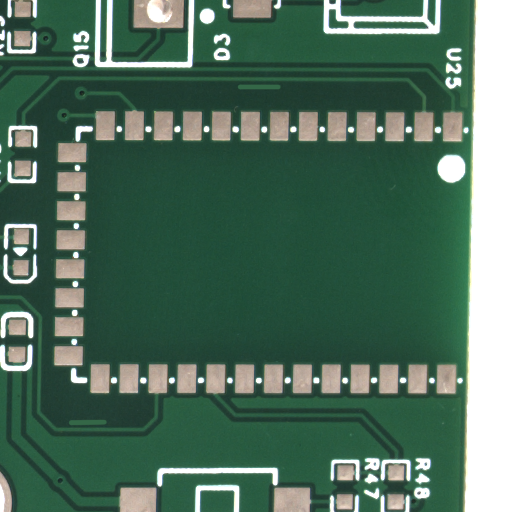Spurious_copper: (88, 421, 128, 430), (259, 87, 303, 95)
